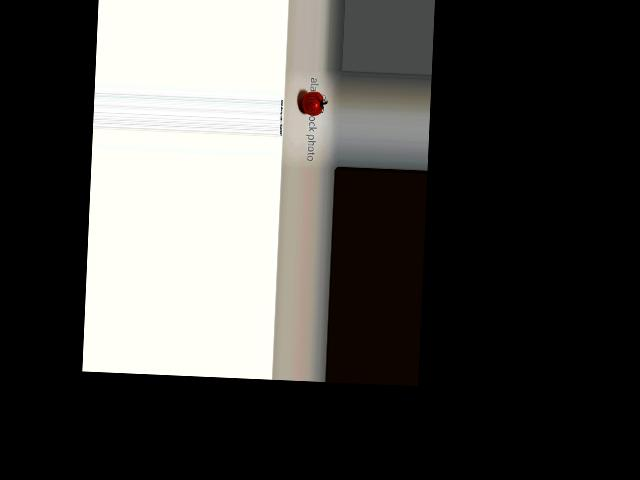tomato: (300, 91, 324, 116)
